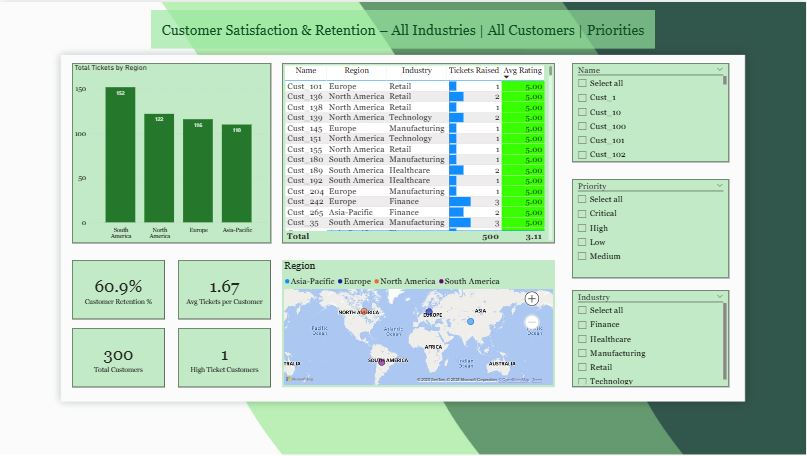

The dashboard page shown, as its layout file describes it:
{"tool":"powerbi","page":{"name":"Page 3","canvas":[1920,1080],"ordinal":2},"visuals":[{"type":"card","fields":{"Values":["KPIs.Avg Tickets per Customer"]},"box":[423.5,614.7,220.6,141.2],"z":0},{"type":"card","fields":{"Values":["KPIs.Customer Retention %"]},"box":[170.6,614.7,220.6,141.2],"z":1000},{"type":"tableEx","fields":{"Values":["Customers.Name","Customers.Region","Customers.Industry","KPIs.Tickets Raised","KPIs.Avg Rating"]},"box":[670.6,144.1,650,429.4],"z":2000},{"type":"columnChart","fields":{"Category":["Customers.Region"],"Y":["KPIs.Total Tickets"]},"box":[170.6,144.1,473.5,429.4],"z":3000},{"type":"card","fields":{"Values":["Customer Insights.Total Customers"]},"box":[170.6,776.5,220.6,141.2],"z":4000},{"type":"card","fields":{"Values":["Customer Insights.High Ticket Customers"]},"box":[423.5,776.5,220.6,141.2],"z":5000},{"type":"slicer","fields":{"Values":["Customers.Industry"]},"box":[1361.9,685.7,373.8,231],"z":6000},{"type":"slicer","fields":{"Values":["Tickets.Priority"]},"box":[1361.9,421.4,373.8,235.7],"z":7000},{"type":"slicer","fields":{"Values":["Customers.Name"]},"box":[1361.9,145.2,373.8,235.7],"z":8000},{"type":"map","title":"Region","fields":{"Category":["Customers.Region"],"Series":["Customers.Region"]},"box":[670.6,614.7,650,302.9],"z":9000},{"type":"card","fields":{"Values":["Agents.PageTitle_Customer"]},"box":[360,20,1200,92],"z":9001}]}

Visuals, with their boxes in screenshot pixels (x1, y1, x2, y2), scaled from the page's 1920x1080 canvas onto the 807x456 screenshot:
card - KPIs.Avg Tickets per Customer: 178:260:271:319
card - KPIs.Customer Retention %: 72:260:164:319
tableEx - Customers.Name x Customers.Region: 282:61:555:242
columnChart - Customers.Region x KPIs.Total Tickets: 72:61:271:242
card - Customer Insights.Total Customers: 72:328:164:387
card - Customer Insights.High Ticket Customers: 178:328:271:387
slicer - Customers.Industry: 572:290:730:387
slicer - Tickets.Priority: 572:178:730:277
slicer - Customers.Name: 572:61:730:161
"Region" map: 282:260:555:387
card - Agents.PageTitle_Customer: 151:8:656:47
